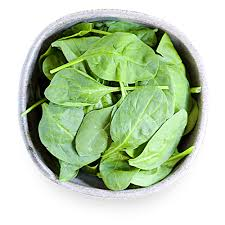spinach: (56, 43, 178, 163)
